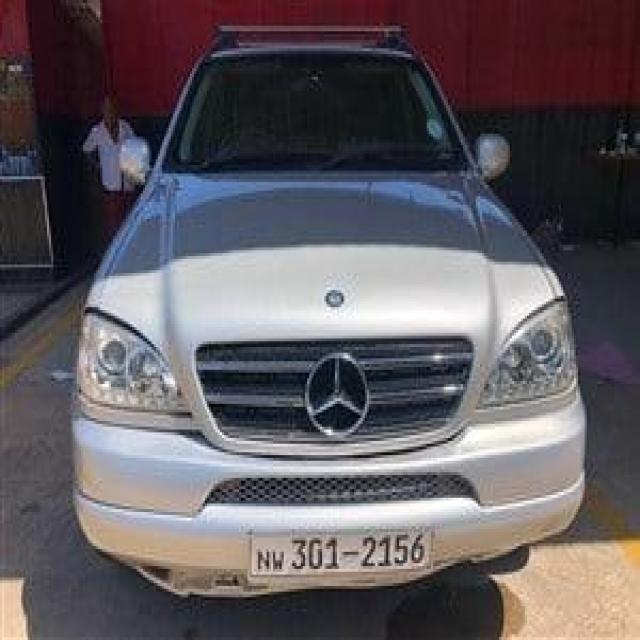license-plate: (250, 529, 431, 569)
